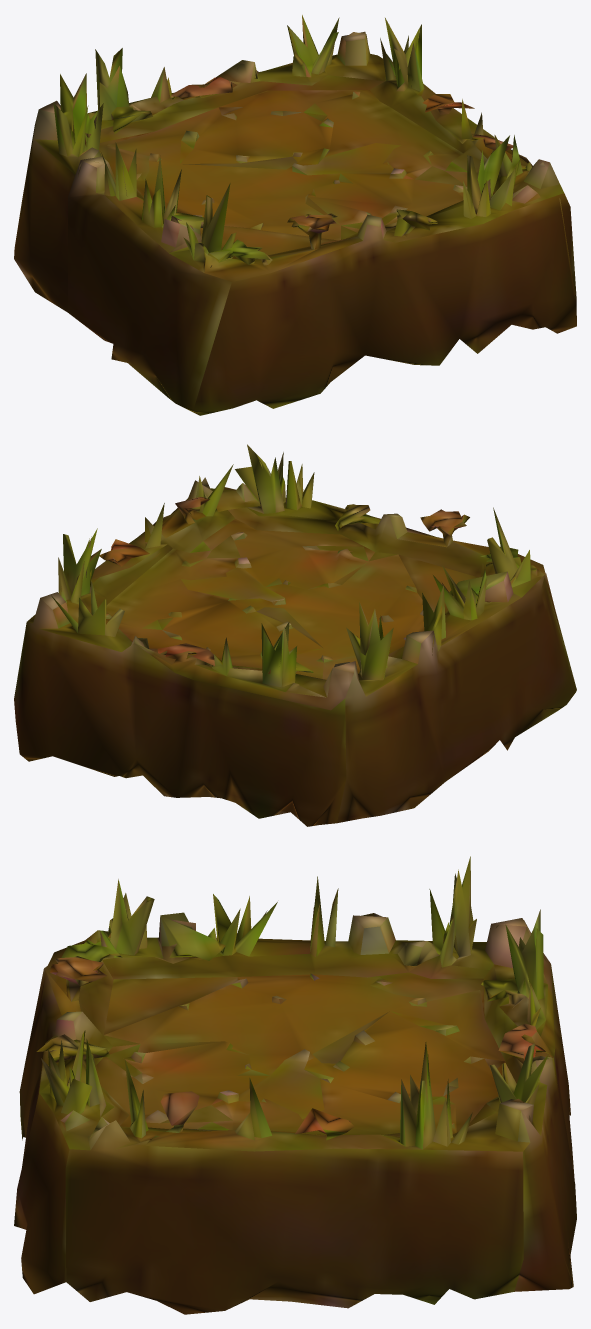
Rendered from tile_dirt.glb.
The picture shows the model from 3 angles, top to bottom: view 1: azimuth 30°, elevation 25°; view 2: azimuth 150°, elevation 25°; view 3: azimuth 270°, elevation 25°; orthographic projection. The views are drawn at different scales.
Bounding box in the file's own units: 0.9891 × 0.483 × 0.9901.
1 material, 1 textured.
